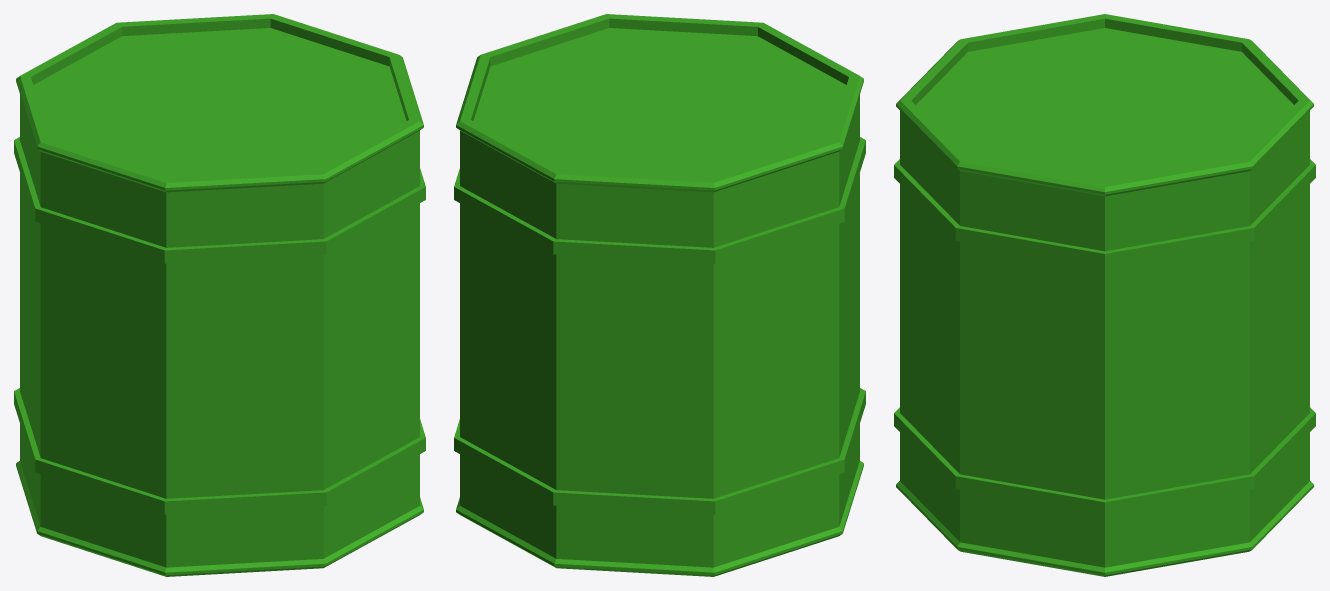
The model's file is Corrosion_Barrel.glb.
3 views of the same model, side by side, from view 1: azimuth 30°, elevation 25°; view 2: azimuth 150°, elevation 25°; view 3: azimuth 270°, elevation 25° (orthographic).
Parts seen in each view (by area): view 1: Corrosion Barrel; view 2: Corrosion Barrel; view 3: Corrosion Barrel.
Part boxes in pixels (left/top/right/bottom): Corrosion Barrel: left=14, top=14, right=425, bottom=576; Corrosion Barrel: left=454, top=14, right=865, bottom=576; Corrosion Barrel: left=894, top=14, right=1315, bottom=576.
Size of the model in its own units: 2.06 by 2.1 by 2.06.
1 material, 1 textured.
